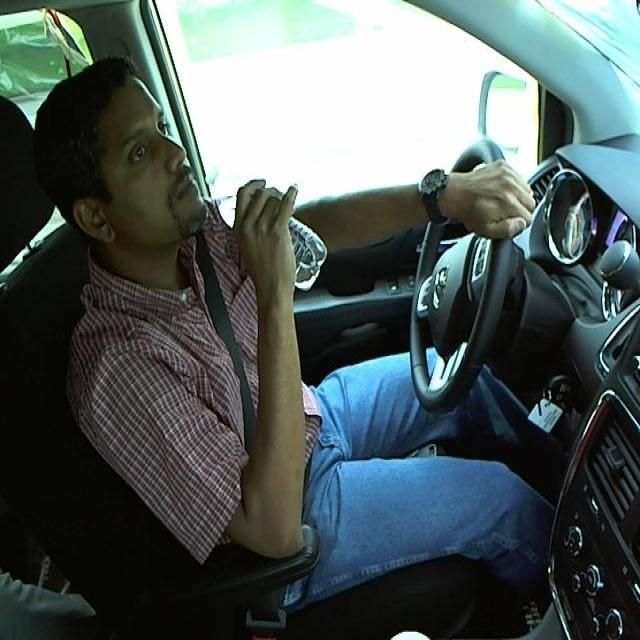Seatbelt: (27, 46, 342, 368)
